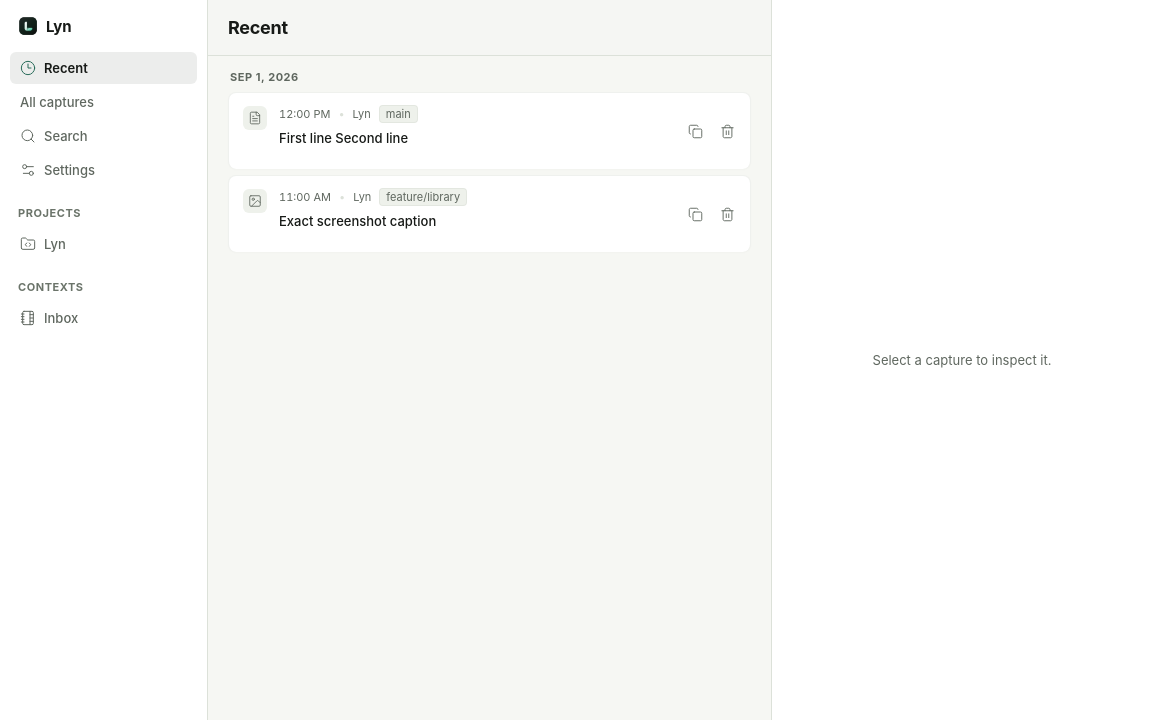
Test: responsive Library › does not reset another view when a pending project deletion completes
Step 1. Click the button "Lyn" → (104, 244), box [10,228,197,260]
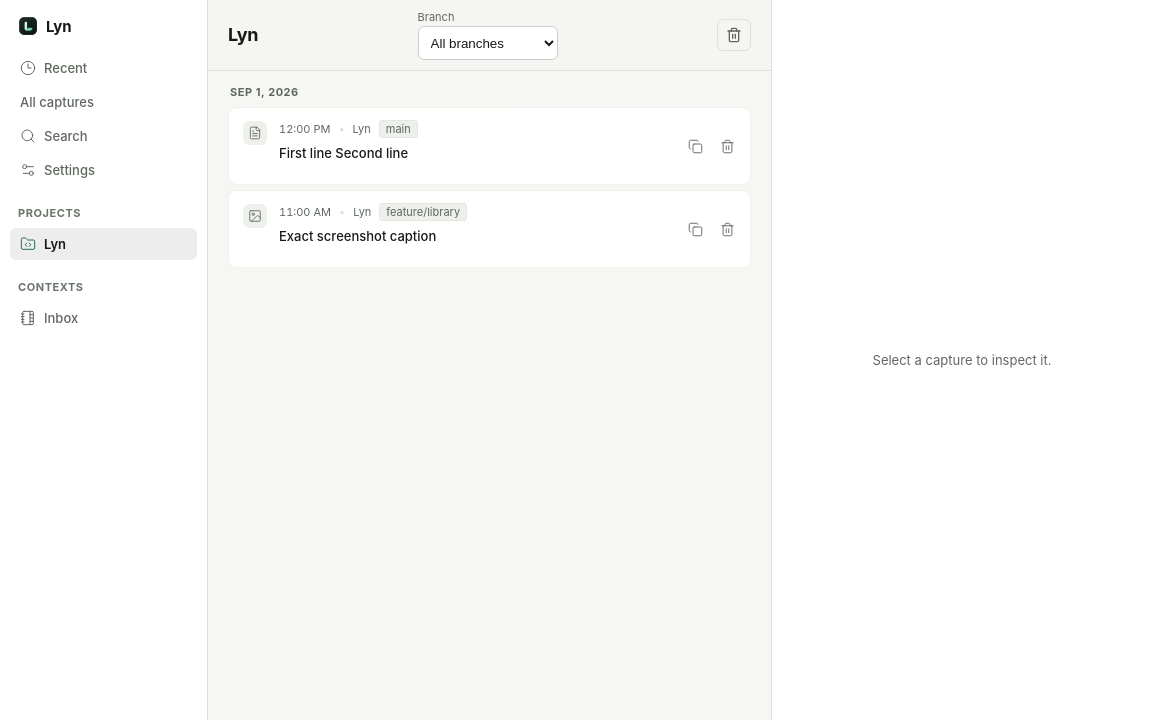
Step 2. Click the button named "Delete project" → (734, 35), box [717,19,751,51]
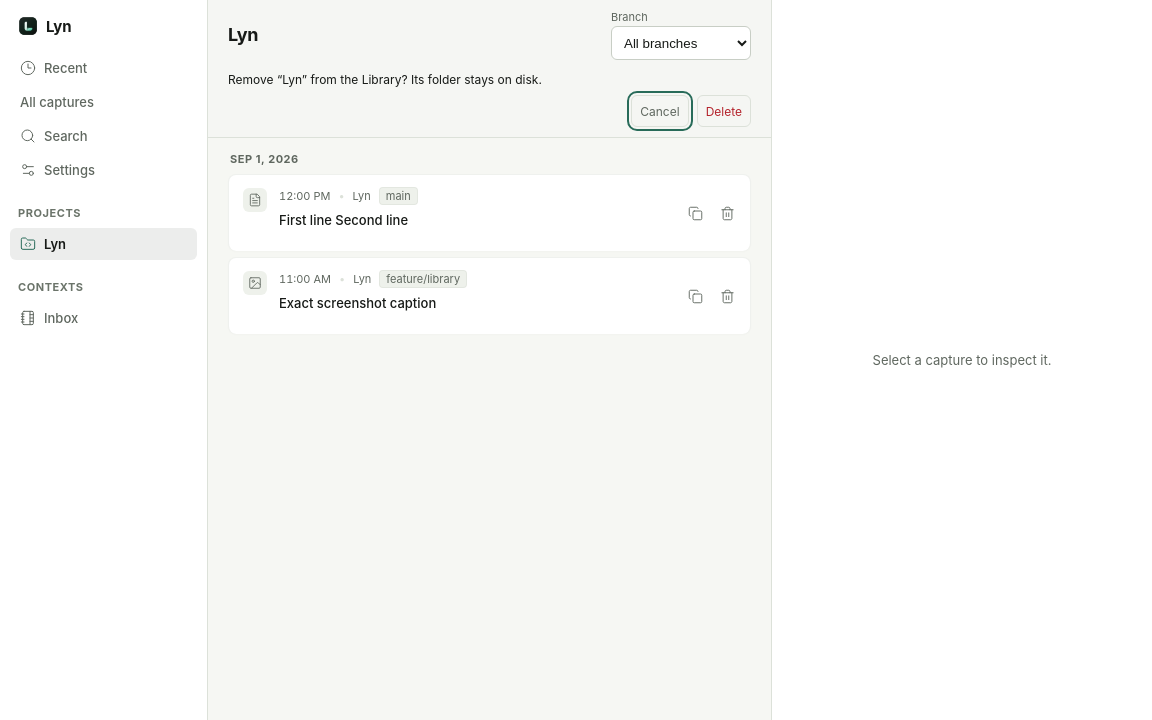
Step 3. Click the button "Delete" → (724, 111), box [697,95,751,127]
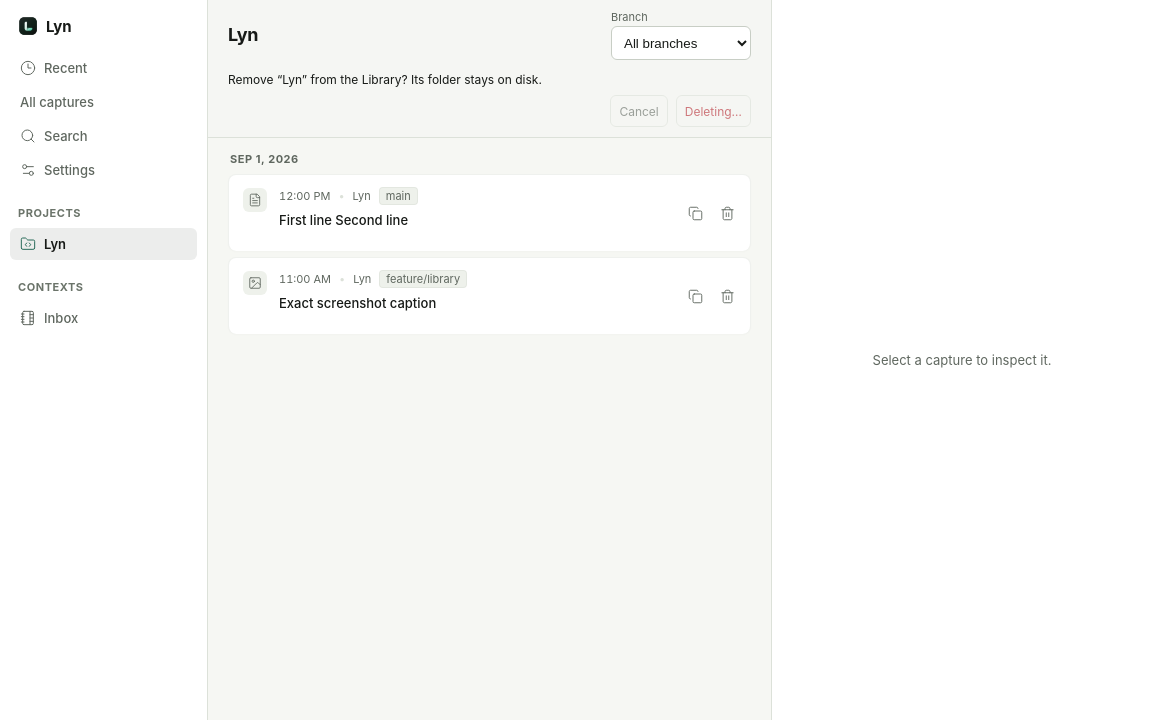
Step 4. Click the button "Inbox" → (104, 318), box [10,302,197,334]
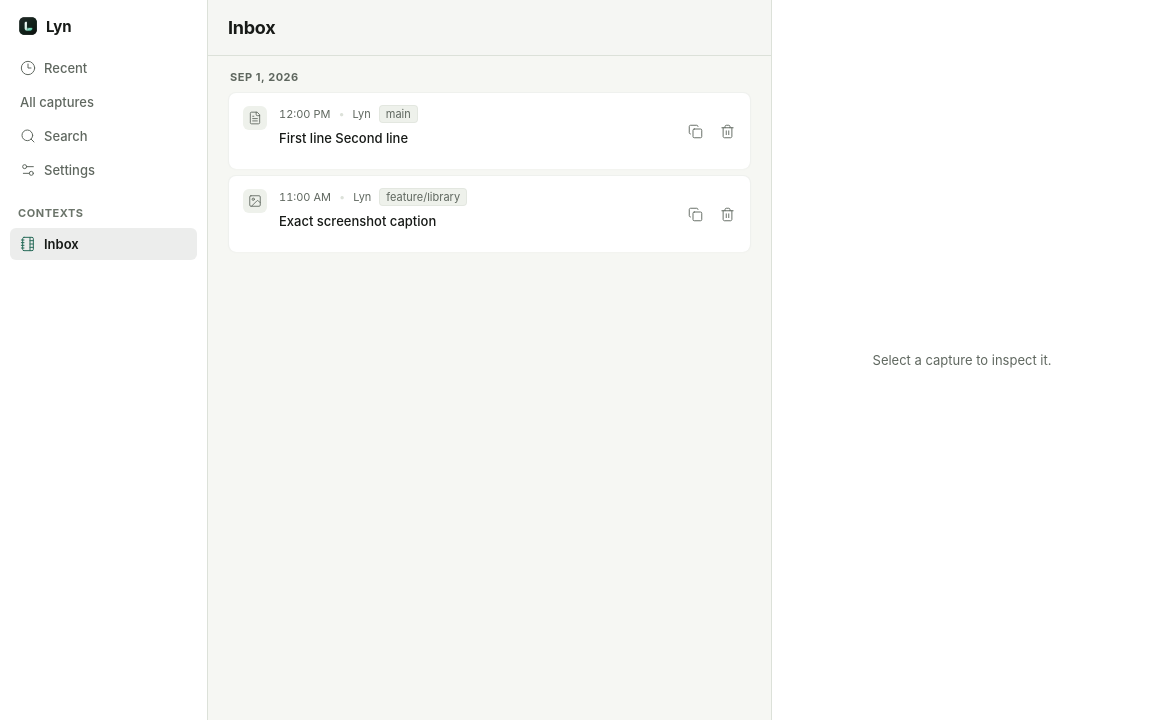
Now the heading "Inbox" is shown, box [228,16,275,40]
